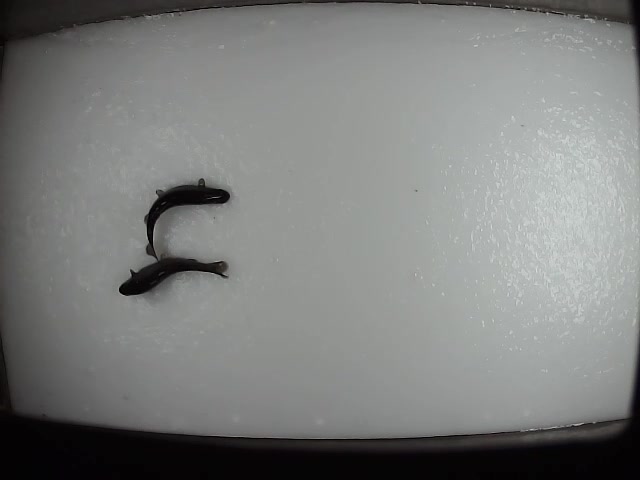Fish: (143, 178, 230, 263), (118, 257, 229, 296)
